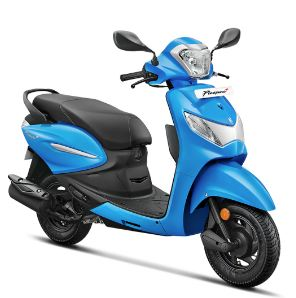bike: (7, 26, 281, 290)
